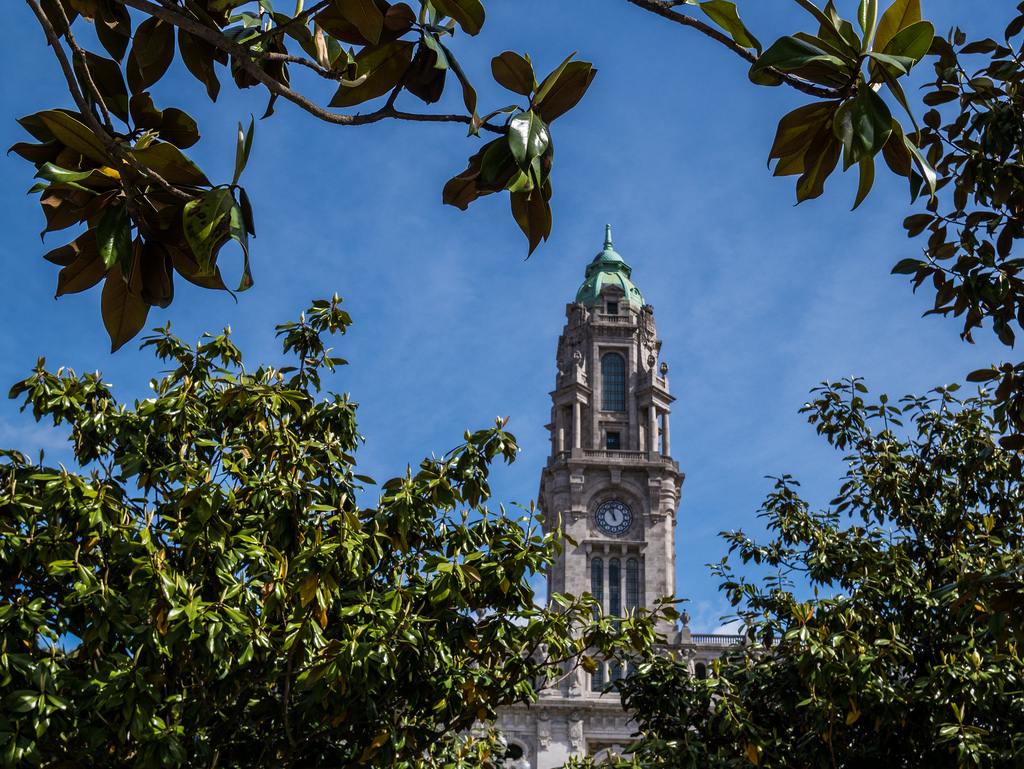camara: (428, 221, 805, 768)
